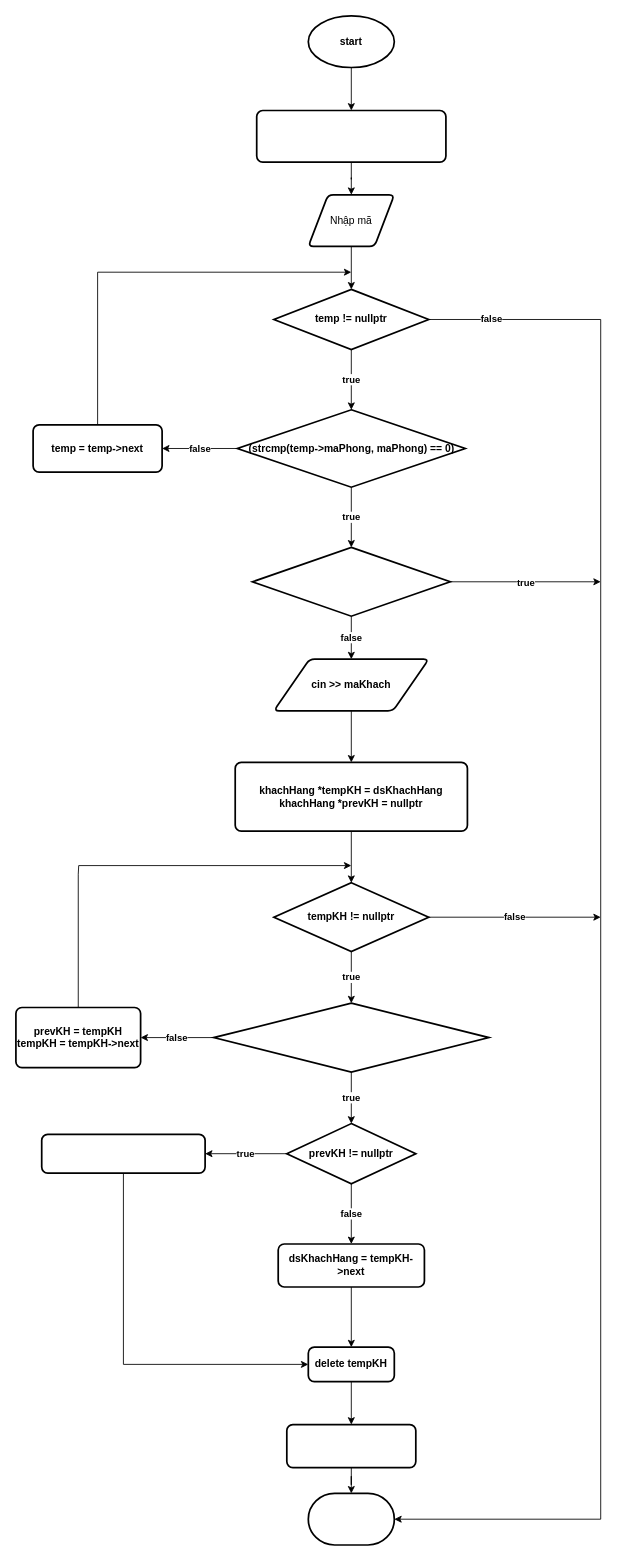
The diagram is 623 pixels wide and 1560 high, and some of its shapes have lost their labels. Here are the shapes that lost their labels. From the top down, the centre of each, then its label:
At [350,136]: "Phong *temp = dsPhong".
At [351,581]: "!temp->tinhTrang".
At [350,1037]: "(strcmp(tempKH->maKH, maKhach) == 0)".
At [123,1153]: "prevKH->next = tempKH->next".
At [351,1445]: "temp->tinhTrang = false".
At [351,1518]: "end".
